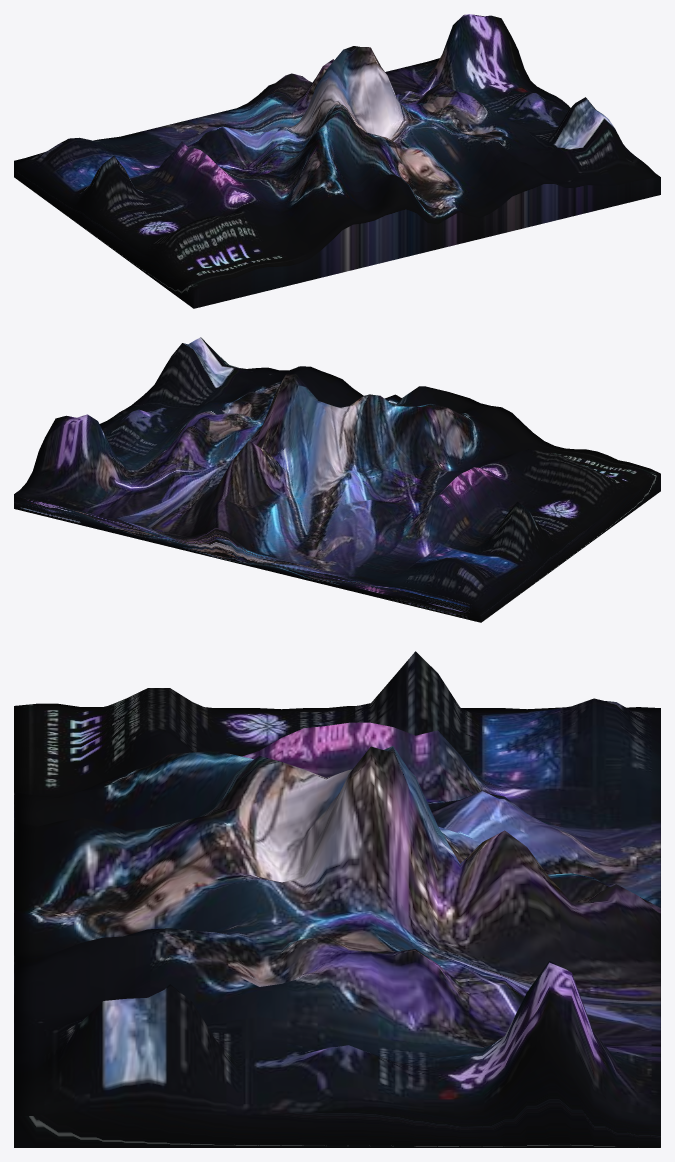
The model's file is SECT_02_Emei.glb.
3 renders of one model, top to bottom at view 1: azimuth 30°, elevation 25°; view 2: azimuth 150°, elevation 25°; view 3: azimuth 270°, elevation 25°, orthographic. The views are drawn at different scales.
Visible parts, largest first — view 1: SECT_02_Emei; view 2: SECT_02_Emei; view 3: SECT_02_Emei.
Part boxes in pixels (x1,y1,x2,y2): SECT_02_Emei: [14, 14, 660, 308]; SECT_02_Emei: [14, 337, 660, 622]; SECT_02_Emei: [14, 651, 660, 1147].
Bounding box in the file's own units: 2 × 0.51 × 1.33.
Materials: 1 (1 with a texture image).
